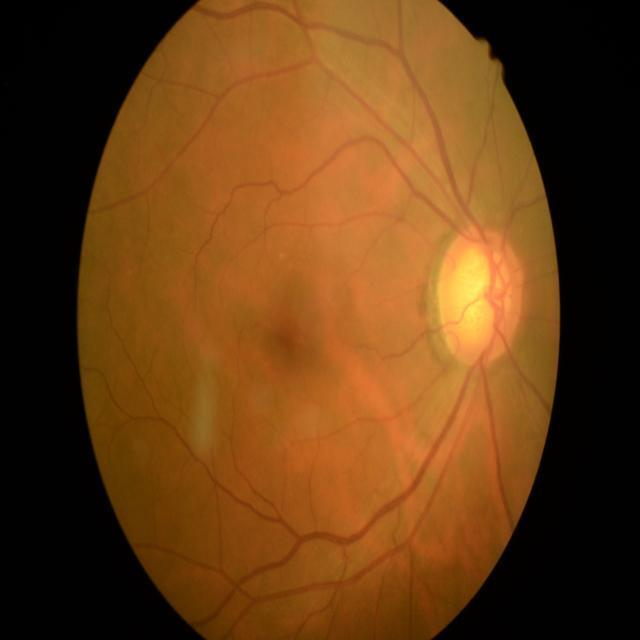cup: (456, 250, 512, 352)
disk: (438, 230, 526, 370)
